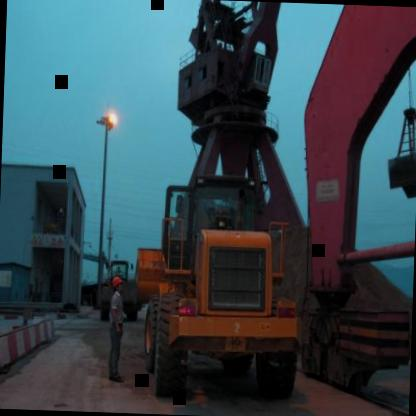helmet: (111, 274, 125, 296)
